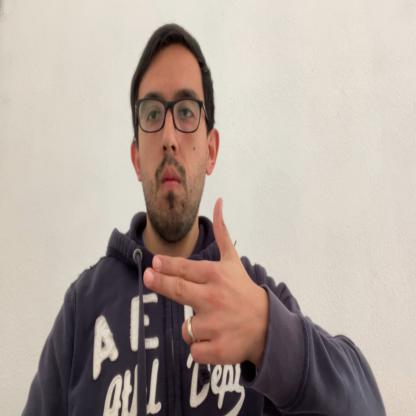H: (144, 196, 253, 367)
